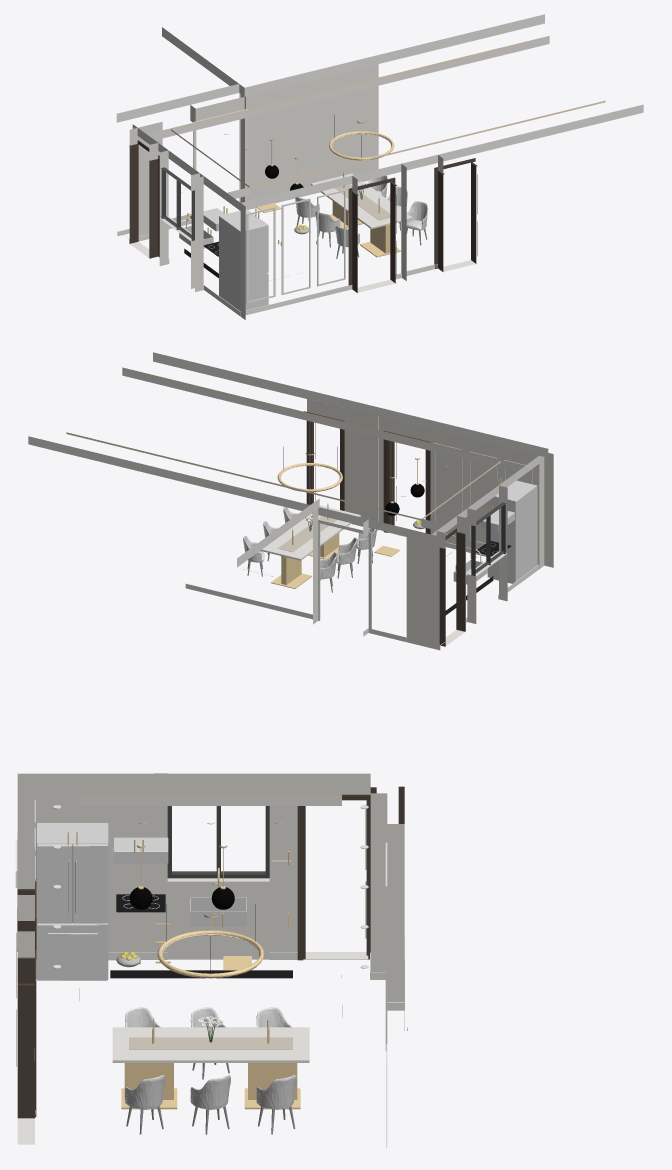
The model's file is KITDIN.glb.
3 views of the same model, one above another, from view 1: azimuth 30°, elevation 25°; view 2: azimuth 150°, elevation 25°; view 3: azimuth 270°, elevation 25° (orthographic). The views are drawn at different scales.
Parts seen in each view (by area): view 1: WEB_KITDIN; view 2: WEB_KITDIN; view 3: WEB_KITDIN.
Boxes of the visible parts, x1=… form: WEB_KITDIN: x1=116, y1=14, x2=643, y2=319; WEB_KITDIN: x1=28, y1=352, x2=553, y2=650; WEB_KITDIN: x1=15, y1=773, x2=407, y2=1148.
Bounding box in the file's own units: 12.09 × 2.7 × 7.84.
